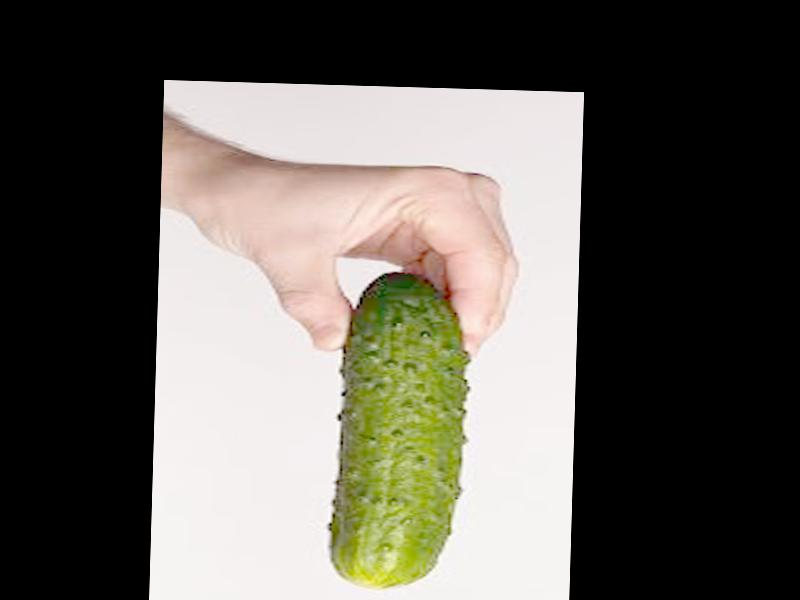Cucumber: (338, 270, 470, 589)
